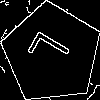L: (27, 28, 79, 76)
